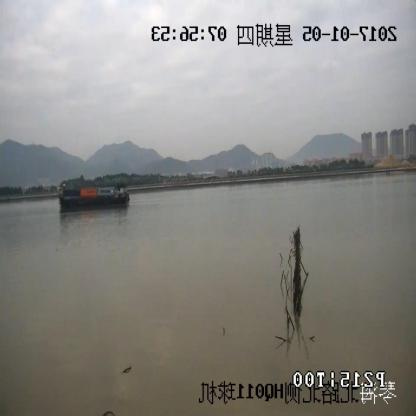Container Ship: (58, 186, 130, 210)
